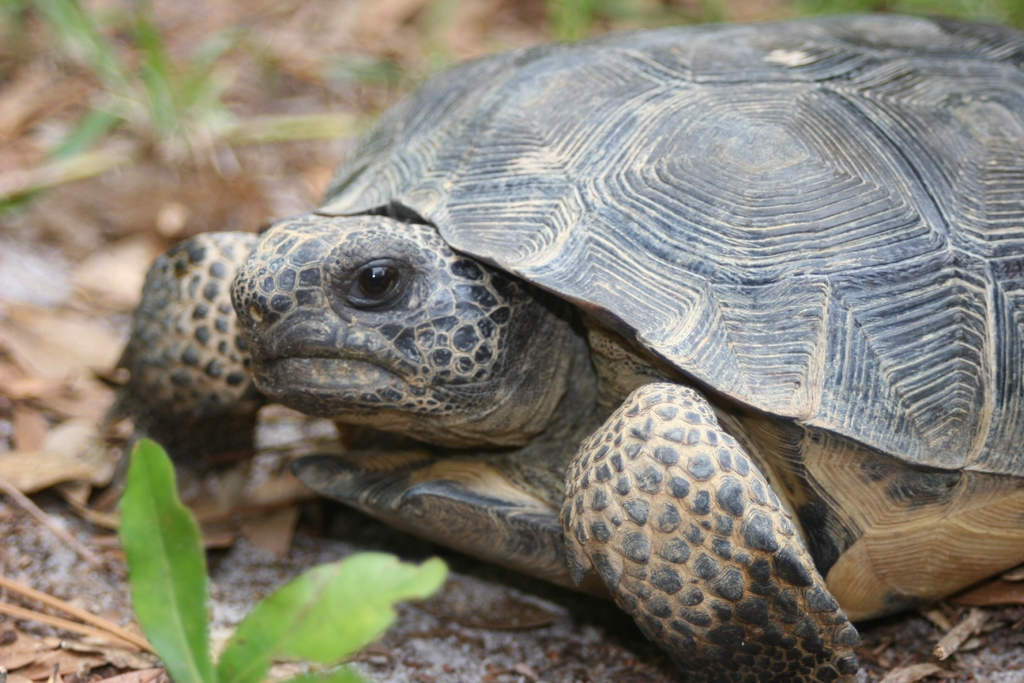Sea turtles: (128, 26, 1022, 673)
